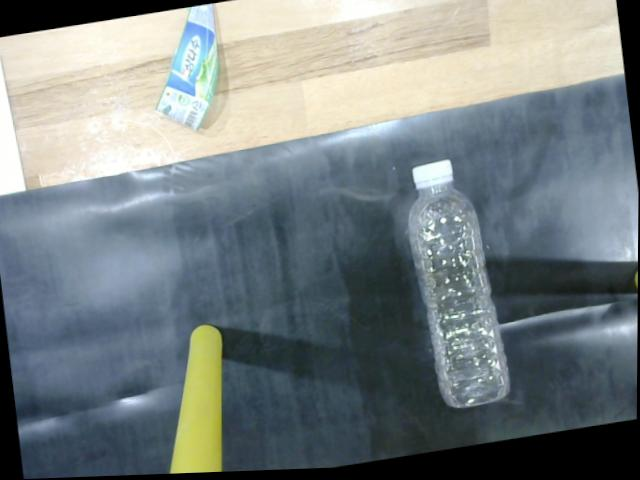bottle: (403, 157, 518, 422)
